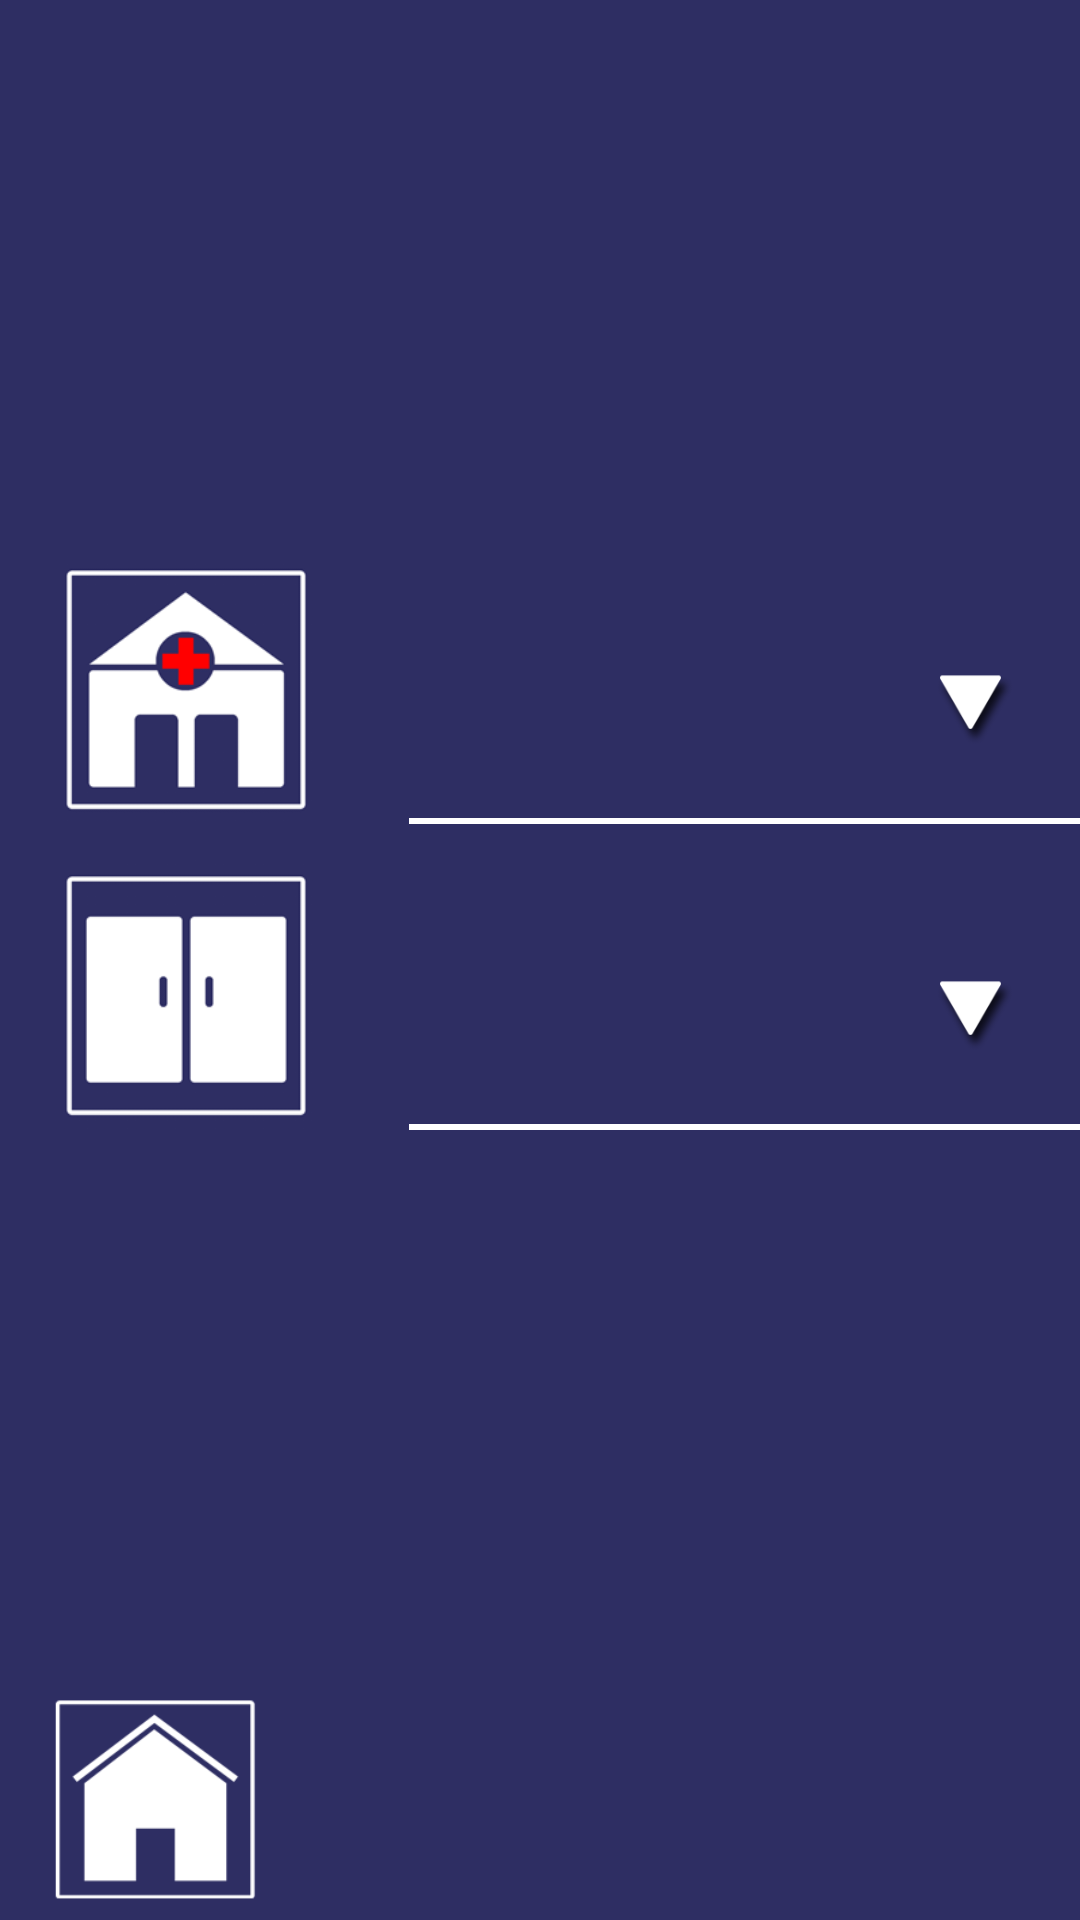

Locate icon controls on the screen. Image size 1080px×1920px, boxes as (x1, y1, x2, y2).
home: (55, 1700, 255, 1899)
hospital: (66, 570, 306, 810)
spin: (940, 675, 1005, 736), (940, 981, 1005, 1042)
